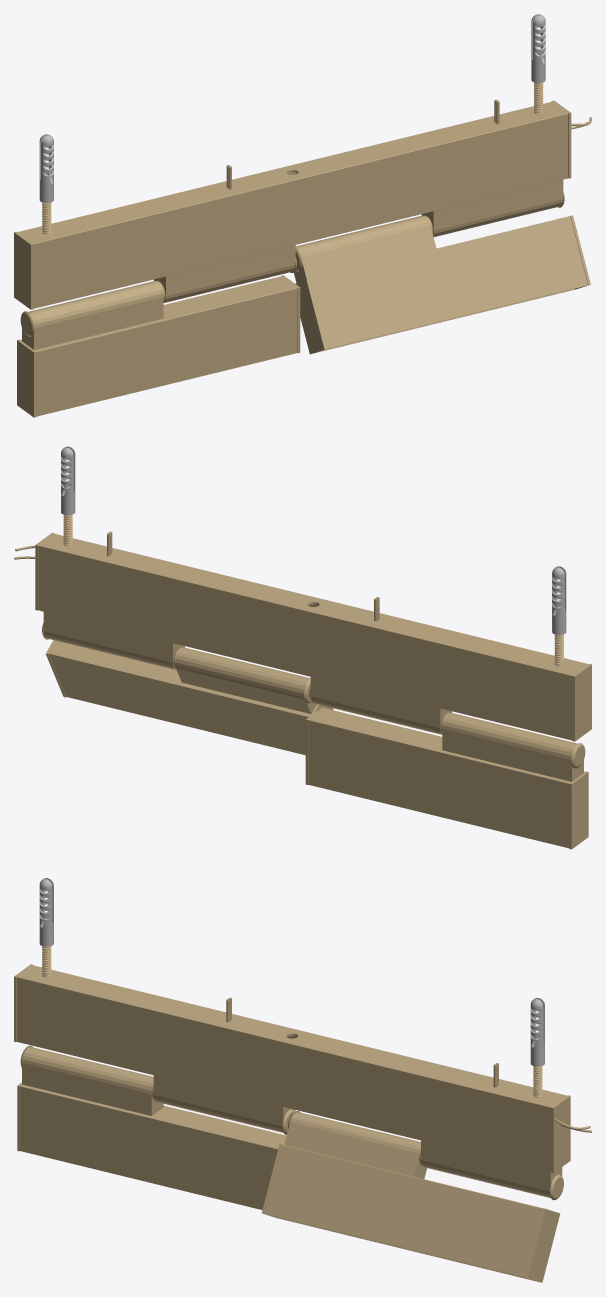
Rendered from Grid2-direcionavel.glb.
The picture shows the model from 3 angles, top to bottom: view 1: azimuth 30°, elevation 25°; view 2: azimuth 150°, elevation 25°; view 3: azimuth 330°, elevation 25°; orthographic projection.
Parts seen in each view (by area): view 1: Geom3D_<ALCP025377280_<ALCP025418709, Geom3D_<ALCP024369604_<ALCP024184260 (×2), Geom3D_<ALCP024404127_<ALCP024792725 (×4), Geom3D_<ALSUXXX_<ALSUXXX746100 (×3), Geom3D (×2); view 2: Geom3D_<ALCP025377280_<ALCP025418709, Geom3D_<ALCP024369604_<ALCP024184260 (×2), Geom3D_<ALCP024404127_<ALCP024792725 (×4), Geom3D_<ALSUXXX_<ALSUXXX746100 (×2), Geom3D (×2); view 3: Geom3D_<ALCP025377280_<ALCP025418709, Geom3D_<ALCP024369604_<ALCP024184260 (×2), Geom3D_<ALCP024404127_<ALCP024792725 (×4), Geom3D_<ALSUXXX_<ALSUXXX746100 (×2), Geom3D (×2).
Part boxes in pixels (box(x1,y1,x2,y2)): Geom3D_<ALCP025377280_<ALCP025418709: box(17, 101, 568, 308); Geom3D_<ALCP024369604_<ALCP024184260 (×2): box(20, 216, 587, 416); Geom3D_<ALCP024404127_<ALCP024792725 (×4): box(22, 179, 563, 349); Geom3D_<ALSUXXX_<ALSUXXX746100 (×3): box(14, 231, 326, 417); Geom3D (×2): box(39, 14, 545, 202); Geom3D_<ALCP025377280_<ALCP025418709: box(38, 533, 588, 740); Geom3D_<ALCP024369604_<ALCP024184260 (×2): box(48, 640, 584, 848); Geom3D_<ALCP024404127_<ALCP024792725 (×4): box(43, 612, 583, 781); Geom3D_<ALSUXXX_<ALSUXXX746100 (×2): box(569, 663, 591, 849); Geom3D (×2): box(61, 446, 566, 634); Geom3D_<ALCP025377280_<ALCP025418709: box(17, 965, 566, 1171); Geom3D_<ALCP024369604_<ALCP024184260 (×2): box(20, 1084, 542, 1281); Geom3D_<ALCP024404127_<ALCP024792725 (×4): box(22, 1047, 562, 1197); Geom3D_<ALSUXXX_<ALSUXXX746100 (×2): box(525, 1095, 570, 1282); Geom3D (×2): box(39, 878, 544, 1066).
Size of what is drawn, in the model's own units: 0.2744 by 0.125 by 0.0333.
